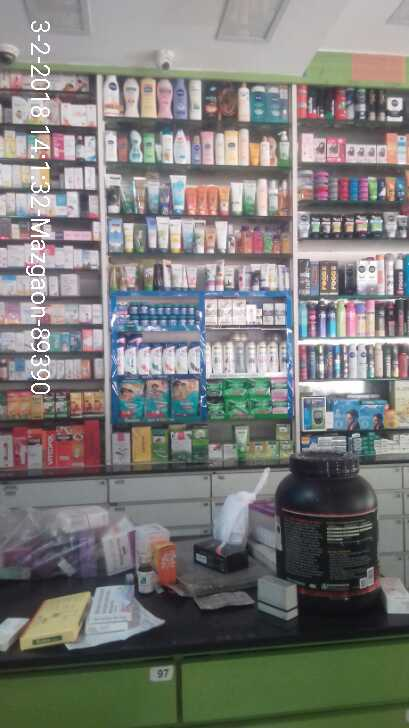beauty: (121, 343, 138, 376), (146, 343, 162, 377), (189, 338, 204, 373), (230, 299, 249, 326), (211, 337, 223, 378), (161, 339, 175, 373), (174, 343, 188, 373), (273, 301, 288, 329), (137, 343, 150, 375), (235, 339, 246, 374), (255, 339, 266, 373), (205, 297, 218, 324), (266, 340, 277, 371), (220, 298, 232, 324), (246, 340, 256, 371), (225, 339, 234, 373), (261, 300, 272, 324)
pharmacy: (169, 378, 199, 420), (120, 380, 145, 420), (146, 378, 169, 417), (222, 379, 249, 394), (227, 397, 248, 415), (252, 377, 272, 393), (271, 378, 287, 395), (252, 398, 269, 414), (275, 395, 289, 412), (128, 299, 136, 319), (154, 303, 164, 317), (163, 304, 172, 317), (170, 302, 178, 316), (139, 303, 146, 316), (148, 303, 155, 316), (178, 304, 185, 317), (186, 304, 194, 314)
